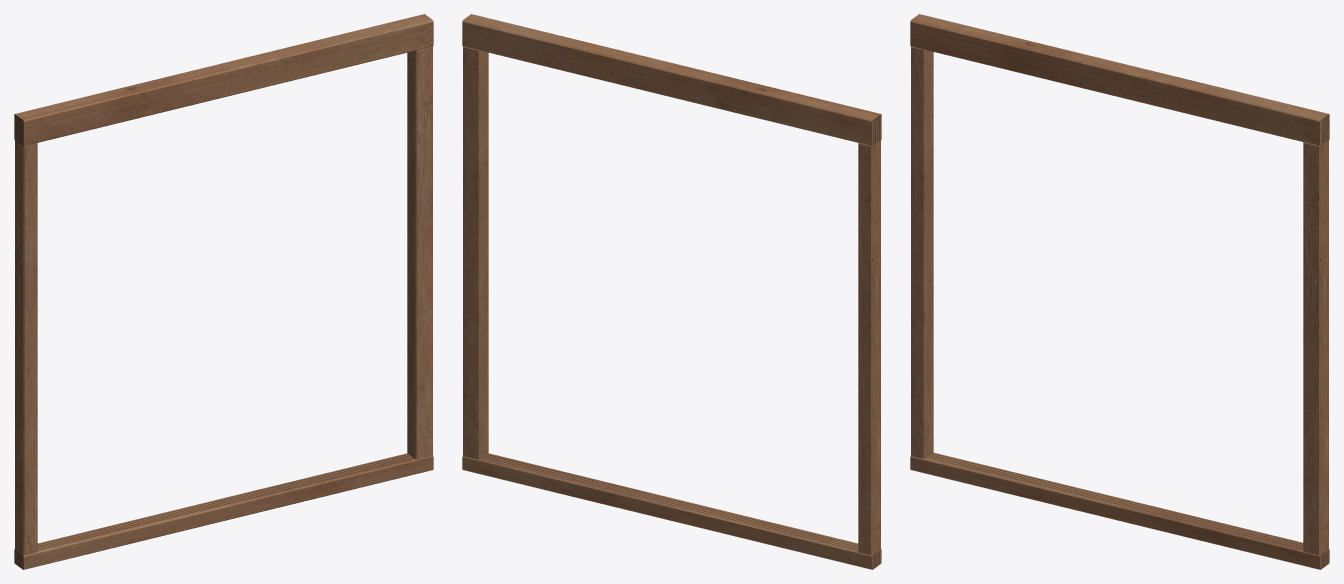
File: SM_Gyedong_Frame_04A.fbx
3 renders of one model, left to right at view 1: azimuth 30°, elevation 25°; view 2: azimuth 150°, elevation 25°; view 3: azimuth 330°, elevation 25°, orthographic.
Parts seen in each view (by area): view 1: SM_Gyedong_Frame_04A; view 2: SM_Gyedong_Frame_04A; view 3: SM_Gyedong_Frame_04A.
Part boxes in pixels (left/top/right/bottom): SM_Gyedong_Frame_04A: left=14, top=14, right=433, bottom=569; SM_Gyedong_Frame_04A: left=462, top=14, right=881, bottom=569; SM_Gyedong_Frame_04A: left=910, top=14, right=1329, bottom=569.
Bounding box in the file's own units: 203 × 213 × 8.27.
